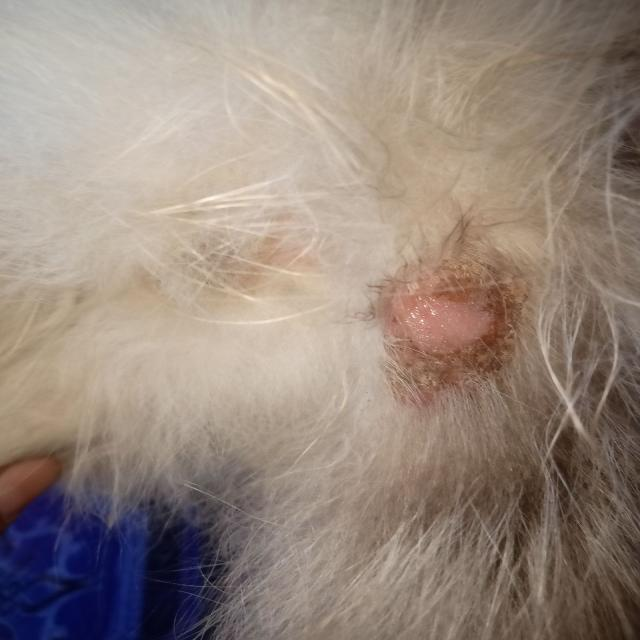hac lao: (322, 213, 568, 410)
